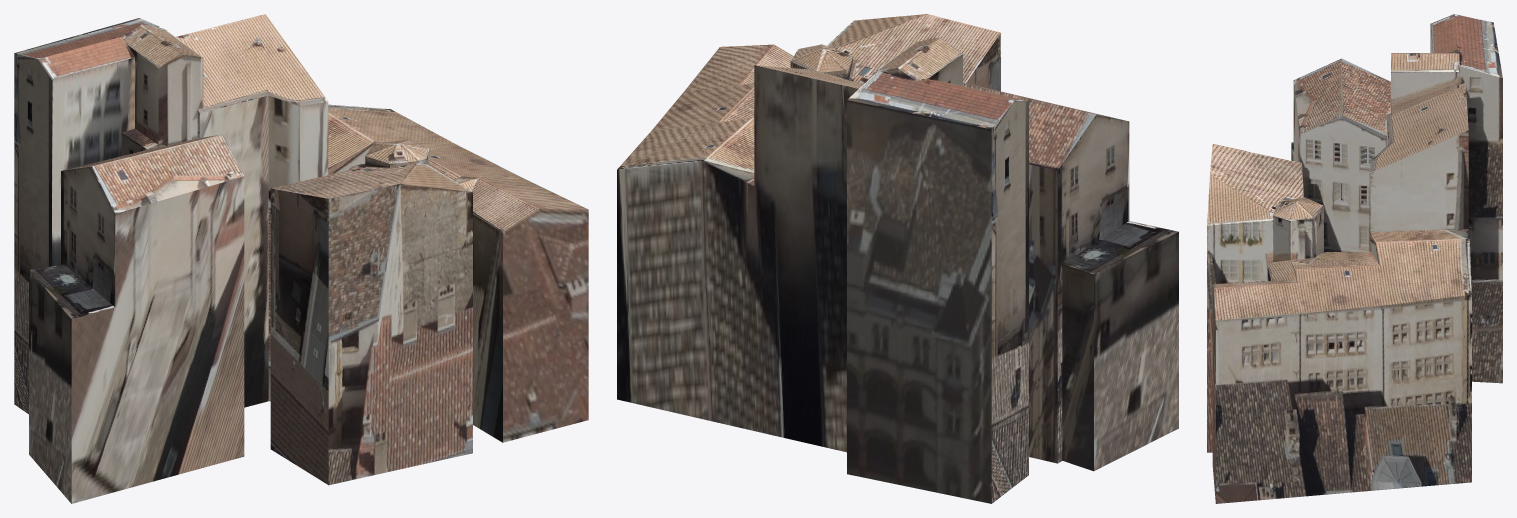
3 views of the same model, side by side, from view 1: azimuth 30°, elevation 25°; view 2: azimuth 150°, elevation 25°; view 3: azimuth 270°, elevation 25° (orthographic). The views are drawn at different scales.
Visible parts, largest first — view 1: Z_UP; view 2: Z_UP; view 3: Z_UP.
Part boxes in pixels (x1,y1,x2,y2): Z_UP: (14, 14, 588, 503); Z_UP: (617, 14, 1178, 503); Z_UP: (1207, 14, 1502, 503).
Size of the model in its own units: 41.15 by 30.56 by 25.58.
Materials: 2 (1 with a texture image).
